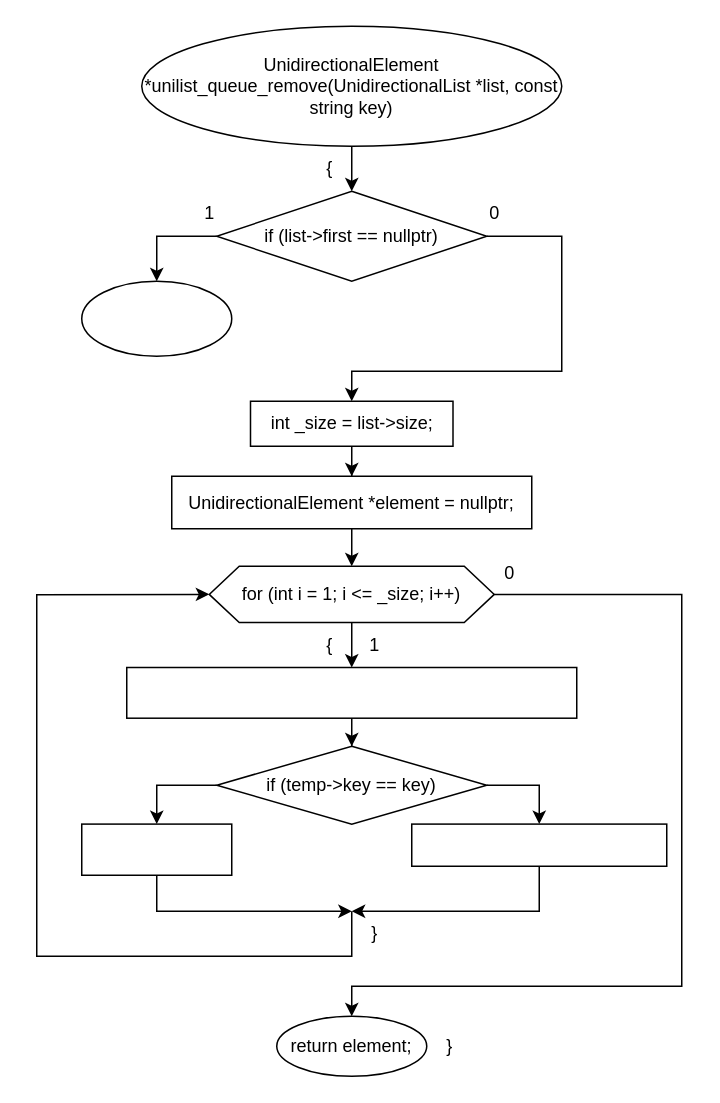
This 720x1103 diagram has some shape labels left out. Here are the shapes that lost their labels. From the top down, the centre of each, then its label:
pixel 156 318: return nullptr;
pixel 351 692: UnidirectionalElement *temp = unilist_pop_first(list);
pixel 156 849: element = temp;
pixel 538 844: unilist_add_after(list, temp);
